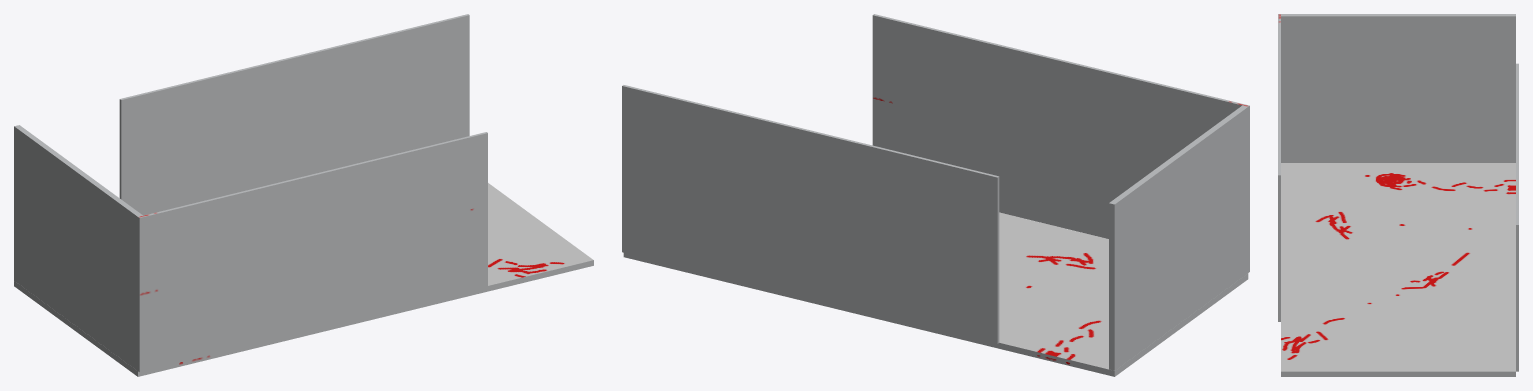
The model's file is Supply_ROOM.fbx.
3 views of the same model, side by side, from view 1: azimuth 30°, elevation 25°; view 2: azimuth 150°, elevation 25°; view 3: azimuth 270°, elevation 25° (orthographic). The views are drawn at different scales.
Visible parts, largest first — view 1: Supply_Room2; view 2: Supply_Room2; view 3: Supply_Room2.
Boxes of the visible parts, x1=… form: Supply_Room2: x1=14, y1=14, x2=593, y2=376; Supply_Room2: x1=622, y1=14, x2=1249, y2=376; Supply_Room2: x1=1278, y1=14, x2=1518, y2=376.
Bounding box in the file's own units: 8.5 × 2.85 × 4.1.
Materials: 1 (1 with a texture image).
